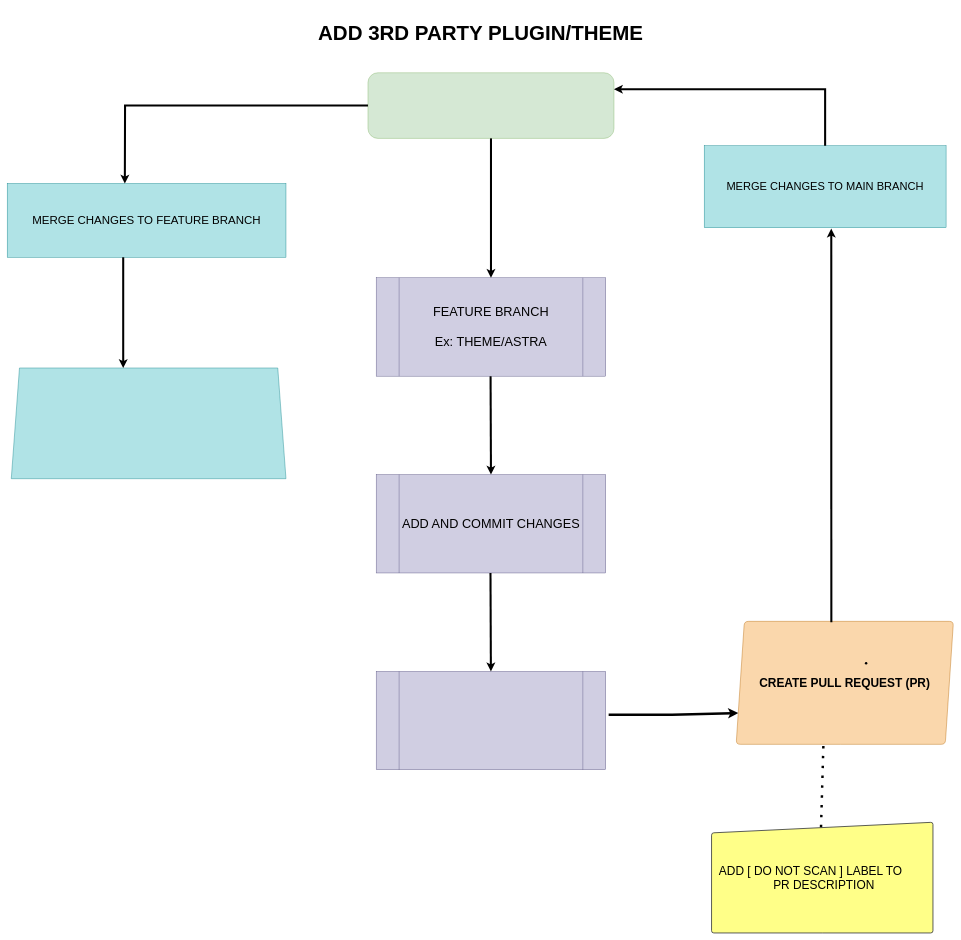
Some shapes in this 961 by 940 pixel diagram are drawn without their labels. Here are the shapes that lost their labels. From the top down, the box of each, then its label:
(368, 72, 614, 138): MAIN BRANCH
(11, 368, 286, 479): MERGE CHANGES TO DEVELOP BRANCH
(376, 671, 606, 770): PUSH FEATURE BRANCH TO REPO
